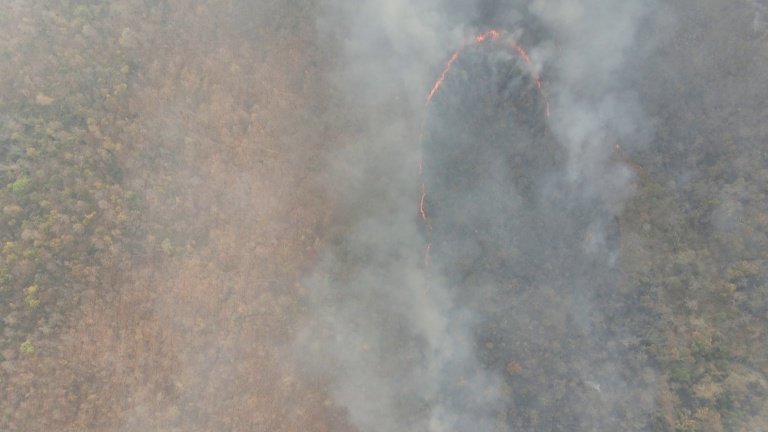fire: (493, 29, 560, 130), (426, 24, 500, 104), (412, 122, 443, 278), (611, 136, 626, 154)
smoke: (318, 156, 509, 430), (527, 1, 622, 276), (330, 3, 476, 136)
